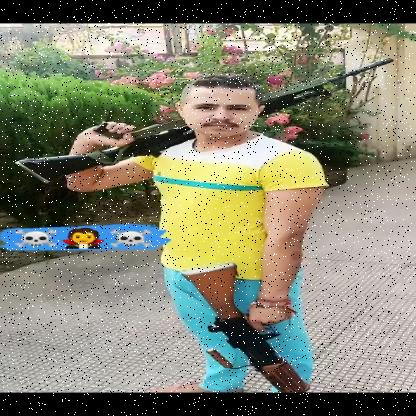rifle: (11, 56, 399, 186), (176, 260, 312, 392)
